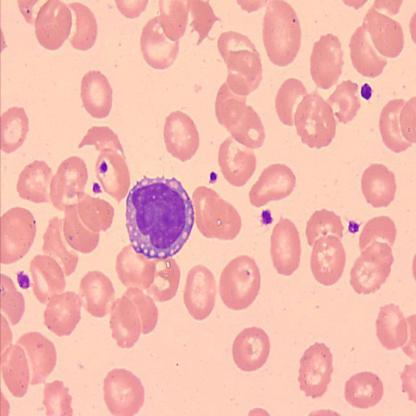Atypical lymphocyte: (125, 176, 195, 260)
